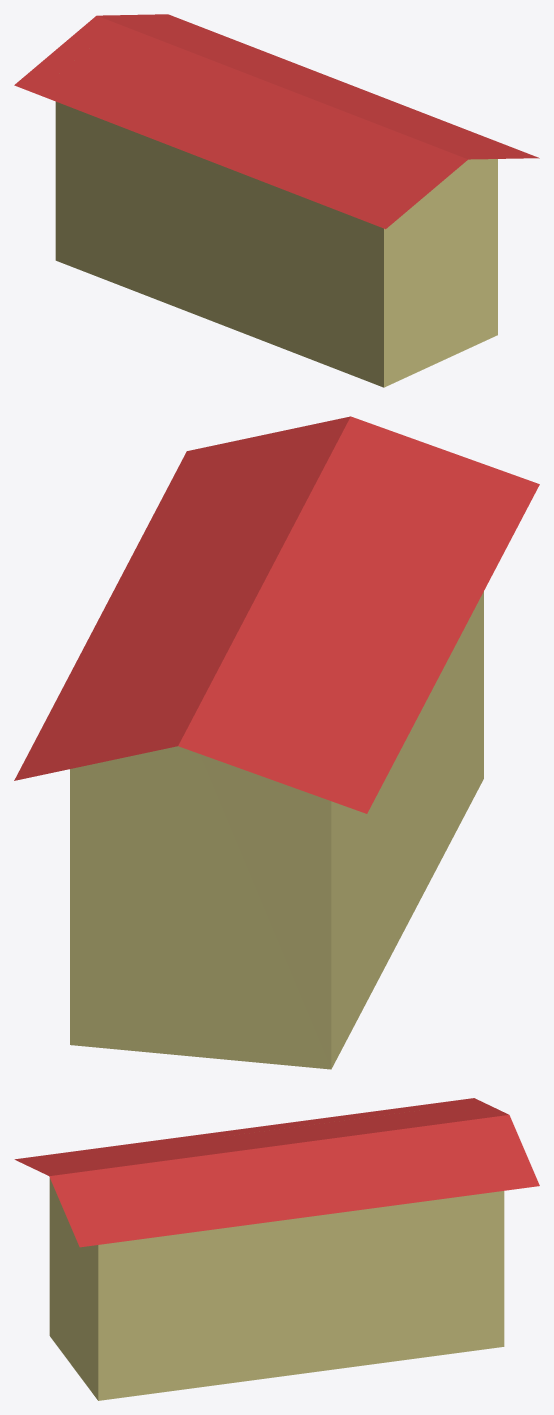
3 renders of one model, top to bottom at view 1: azimuth 30°, elevation 25°; view 2: azimuth 150°, elevation 25°; view 3: azimuth 270°, elevation 25°, orthographic. The views are drawn at different scales.
Bounding box in the file's own units: 9.36 × 13.92 × 5.81.
